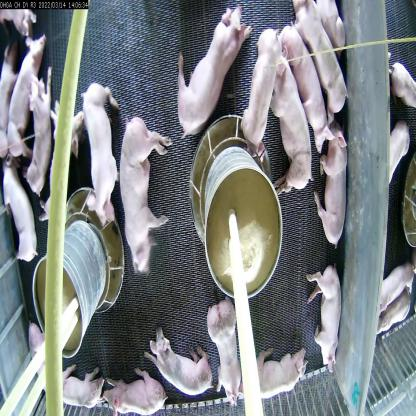Pig: (111, 115, 176, 282), (177, 9, 246, 136), (293, 0, 349, 117), (272, 53, 312, 209), (45, 85, 89, 225), (77, 79, 117, 224), (201, 293, 251, 398), (6, 25, 46, 156), (4, 142, 40, 283), (146, 322, 209, 401), (287, 33, 331, 141), (312, 117, 347, 252), (303, 264, 349, 363), (96, 359, 175, 415), (19, 63, 51, 193), (249, 21, 279, 151), (251, 343, 305, 405), (54, 355, 102, 407)
